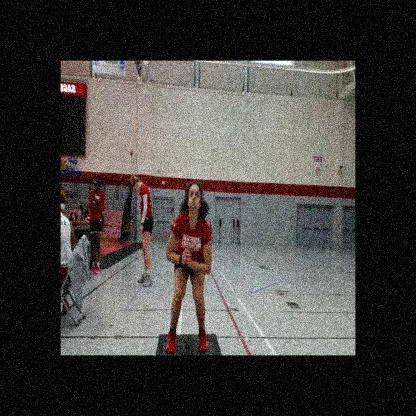lateral_flexion_right: (162, 178, 215, 355)
stance_width_normal: (163, 209, 214, 355)
